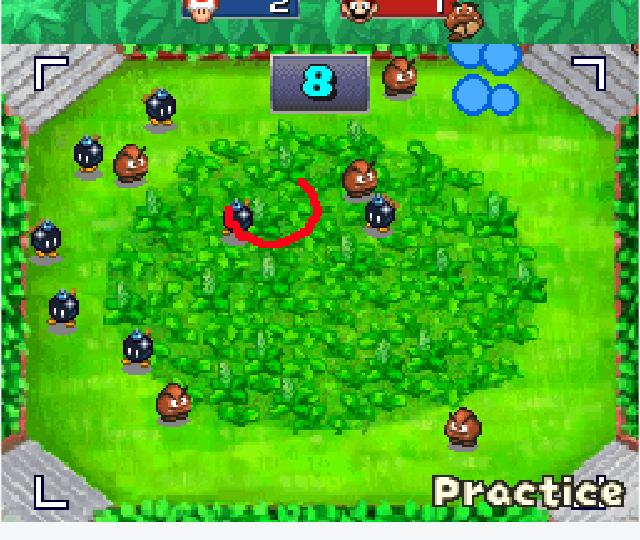bomb: (42, 285, 85, 333), (360, 189, 401, 237), (118, 327, 161, 372), (68, 132, 106, 179), (219, 195, 258, 240), (141, 85, 179, 130), (28, 218, 65, 262)
goomba: (441, 403, 487, 452), (108, 142, 152, 187), (378, 55, 422, 99), (155, 379, 198, 424), (339, 156, 380, 200)
